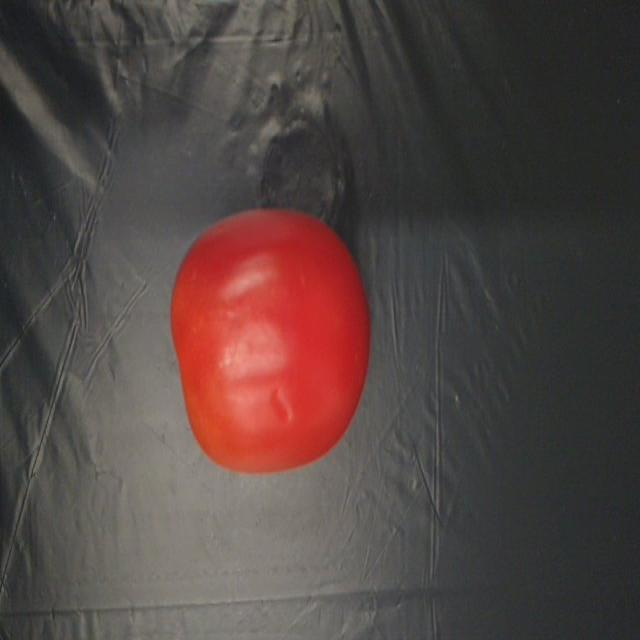kirmizi: (170, 210, 370, 490)
